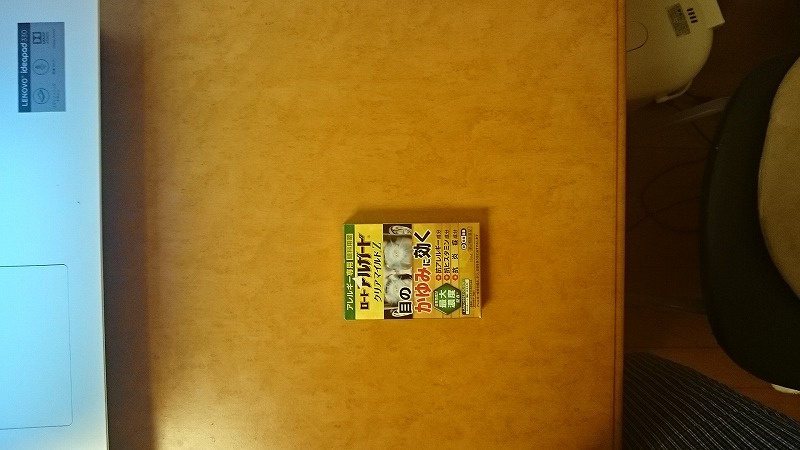C: (333, 216, 490, 327)
